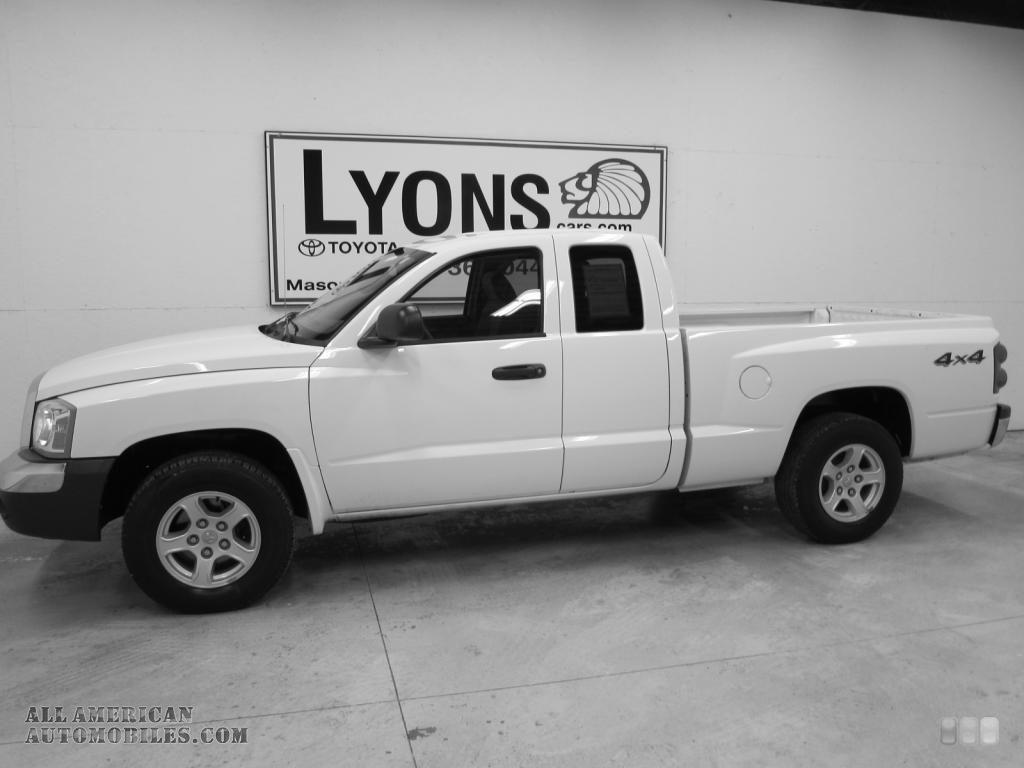car: (3, 226, 1017, 621)
